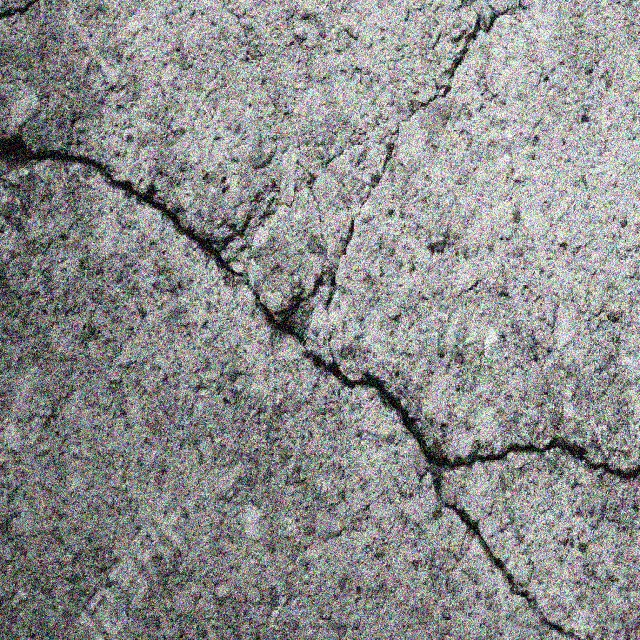SurfaceCrack: (0, 2, 638, 620)
